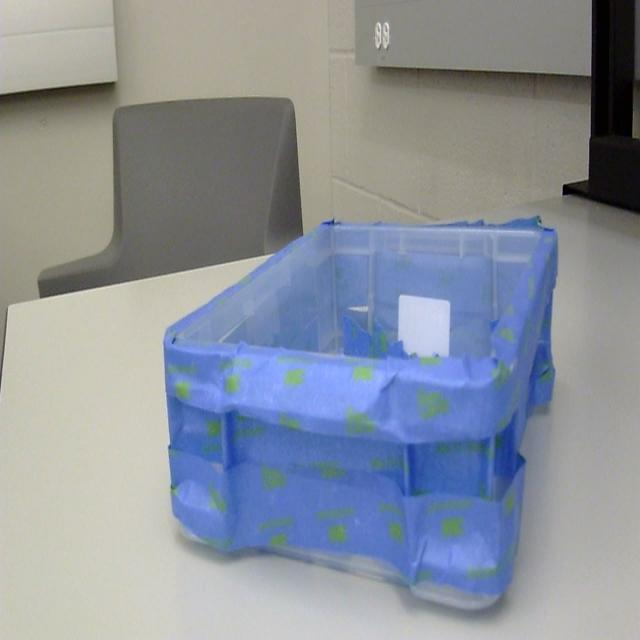bucket: (162, 219, 558, 618)
